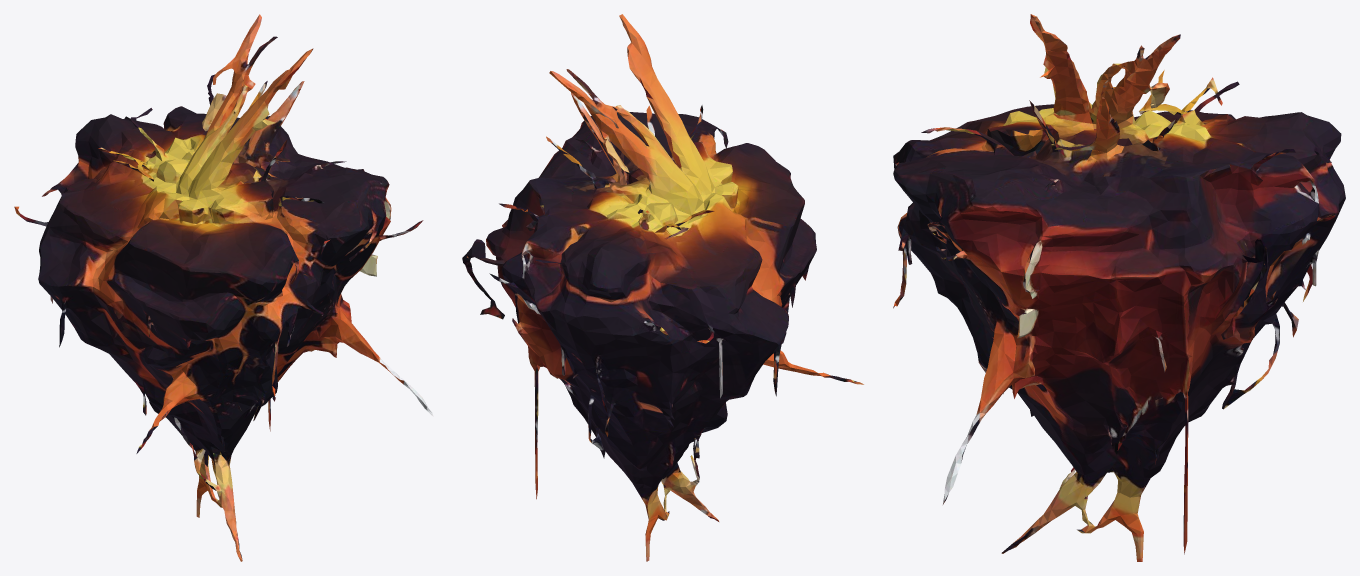
Rendered from lava_rock.glb.
The picture shows the model from 3 angles, left to right: view 1: azimuth 30°, elevation 25°; view 2: azimuth 150°, elevation 25°; view 3: azimuth 270°, elevation 25°; orthographic projection. The views are drawn at different scales.
Visible parts, largest first — view 1: tmp83sun6rc.ply; view 2: tmp83sun6rc.ply; view 3: tmp83sun6rc.ply.
Part boxes in pixels (x1,y1,x2,y2): tmp83sun6rc.ply: (14, 14, 433, 561); tmp83sun6rc.ply: (462, 14, 863, 561); tmp83sun6rc.ply: (893, 14, 1345, 561).
Size of the model in its own units: 1.28 by 1.99 by 1.38.
1 material, 1 textured.
